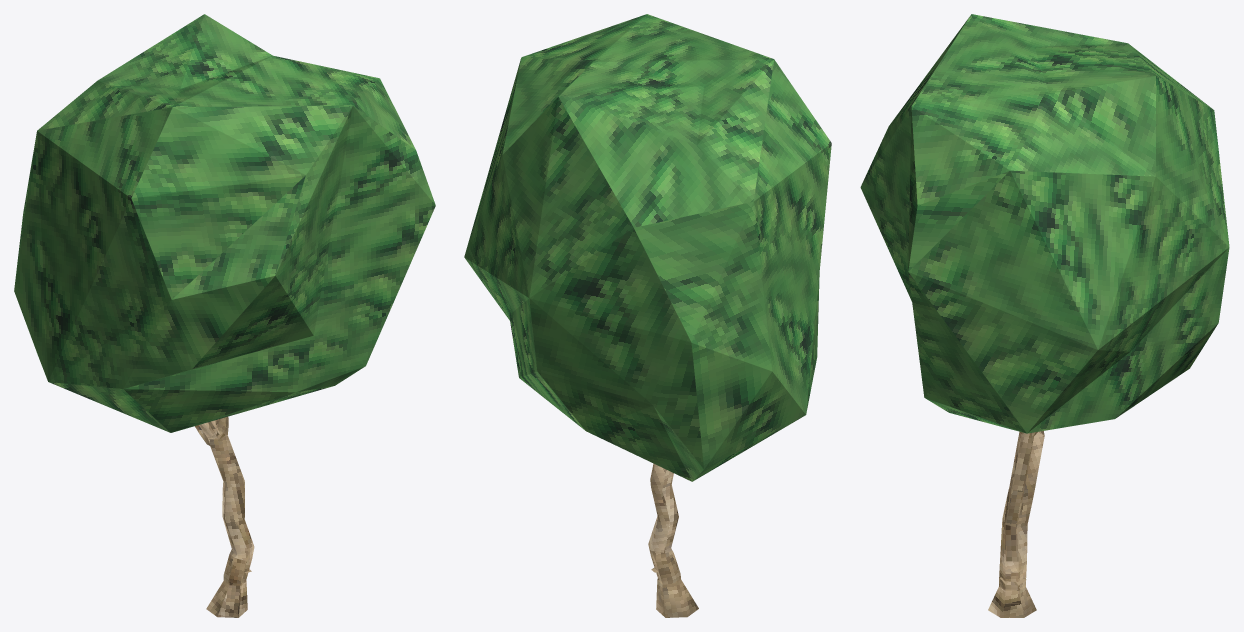
Rendered from sphere_tree.glb.
3 views of the same model, side by side, from view 1: azimuth 30°, elevation 25°; view 2: azimuth 150°, elevation 25°; view 3: azimuth 270°, elevation 25° (orthographic). The views are drawn at different scales.
Parts seen in each view (by area): view 1: Cube.007, Cube.004; view 2: Cube.007, Cube.004; view 3: Cube.007, Cube.004.
Part boxes in pixels (x1,y1,x2,y2): Cube.007: (14, 14, 435, 432); Cube.004: (195, 416, 254, 617); Cube.007: (464, 14, 831, 481); Cube.004: (648, 463, 698, 617); Cube.007: (860, 14, 1229, 433); Cube.004: (988, 431, 1044, 617).
Bounding box in the file's own units: 8.9 × 14.33 × 8.58.
2 materials, 2 textured.
